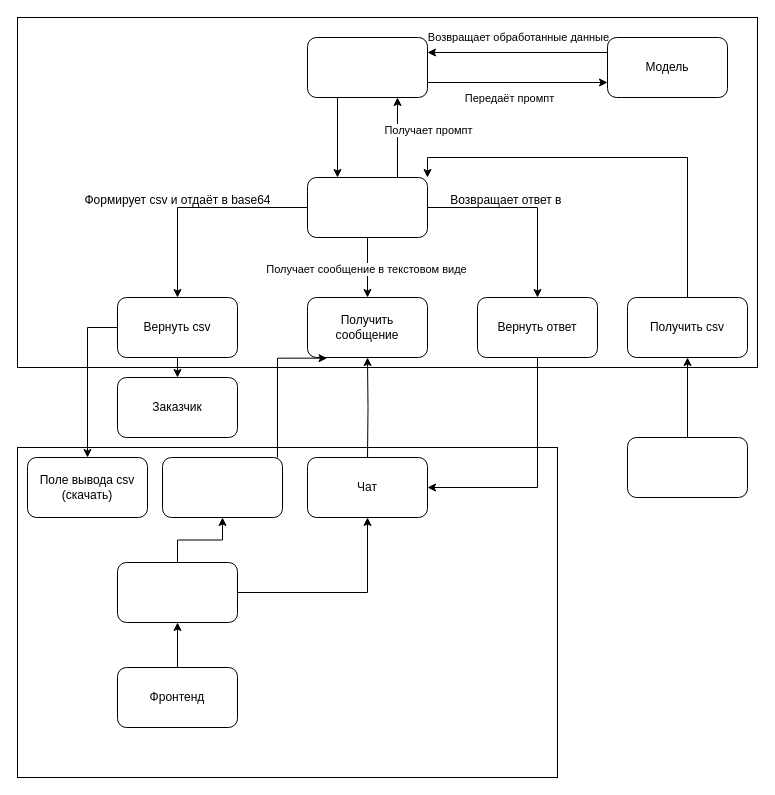
This 775x795 diagram has some shape labels left out. Each missing label, with the centre of its shape:
"API" goes at (367,207).
"Бэкэнд" goes at (367,67).
"Поле для ввода csv" goes at (222,487).
"Страница" goes at (177,592).
"Тестовые данные + данные от заказчика" goes at (687,467).
